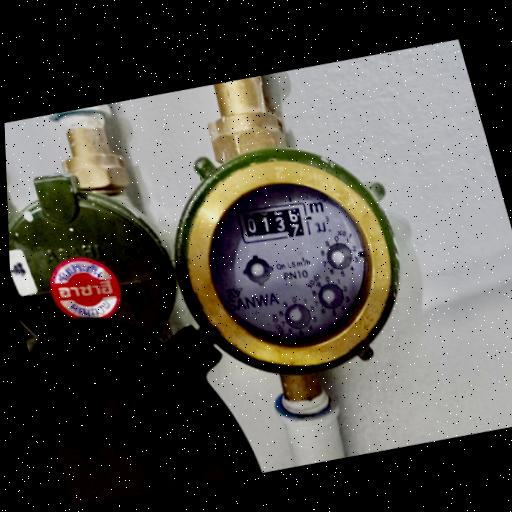0: (241, 210, 262, 238)
1: (254, 209, 275, 236)
3: (268, 207, 289, 235)
6: (280, 204, 307, 238)
border_water_meter_number: (233, 192, 313, 251)
